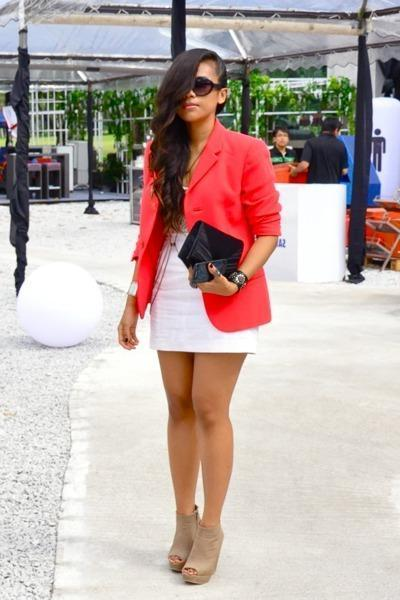jacket: (120, 115, 285, 334)
skirt: (140, 233, 274, 354)
